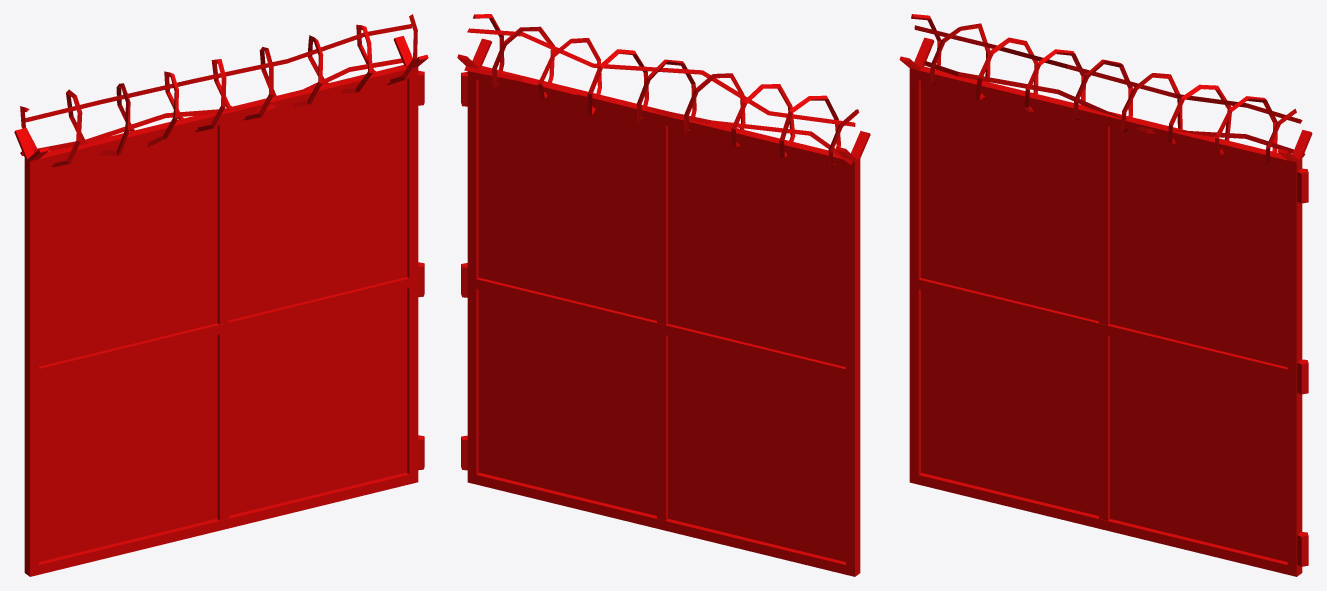
Rendered from SM_fence1.fbx.
The picture shows the model from 3 angles, left to right: view 1: azimuth 30°, elevation 25°; view 2: azimuth 150°, elevation 25°; view 3: azimuth 330°, elevation 25°; orthographic projection.
Visible parts, largest first — view 1: fence1; view 2: fence1; view 3: fence1.
Boxes of the visible parts, box(x1,y1,x2,y2) form: fence1: box(14, 14, 428, 576); fence1: box(457, 14, 870, 576); fence1: box(899, 14, 1312, 576).
Size of the model in its own units: 300 by 338 by 50.82.
